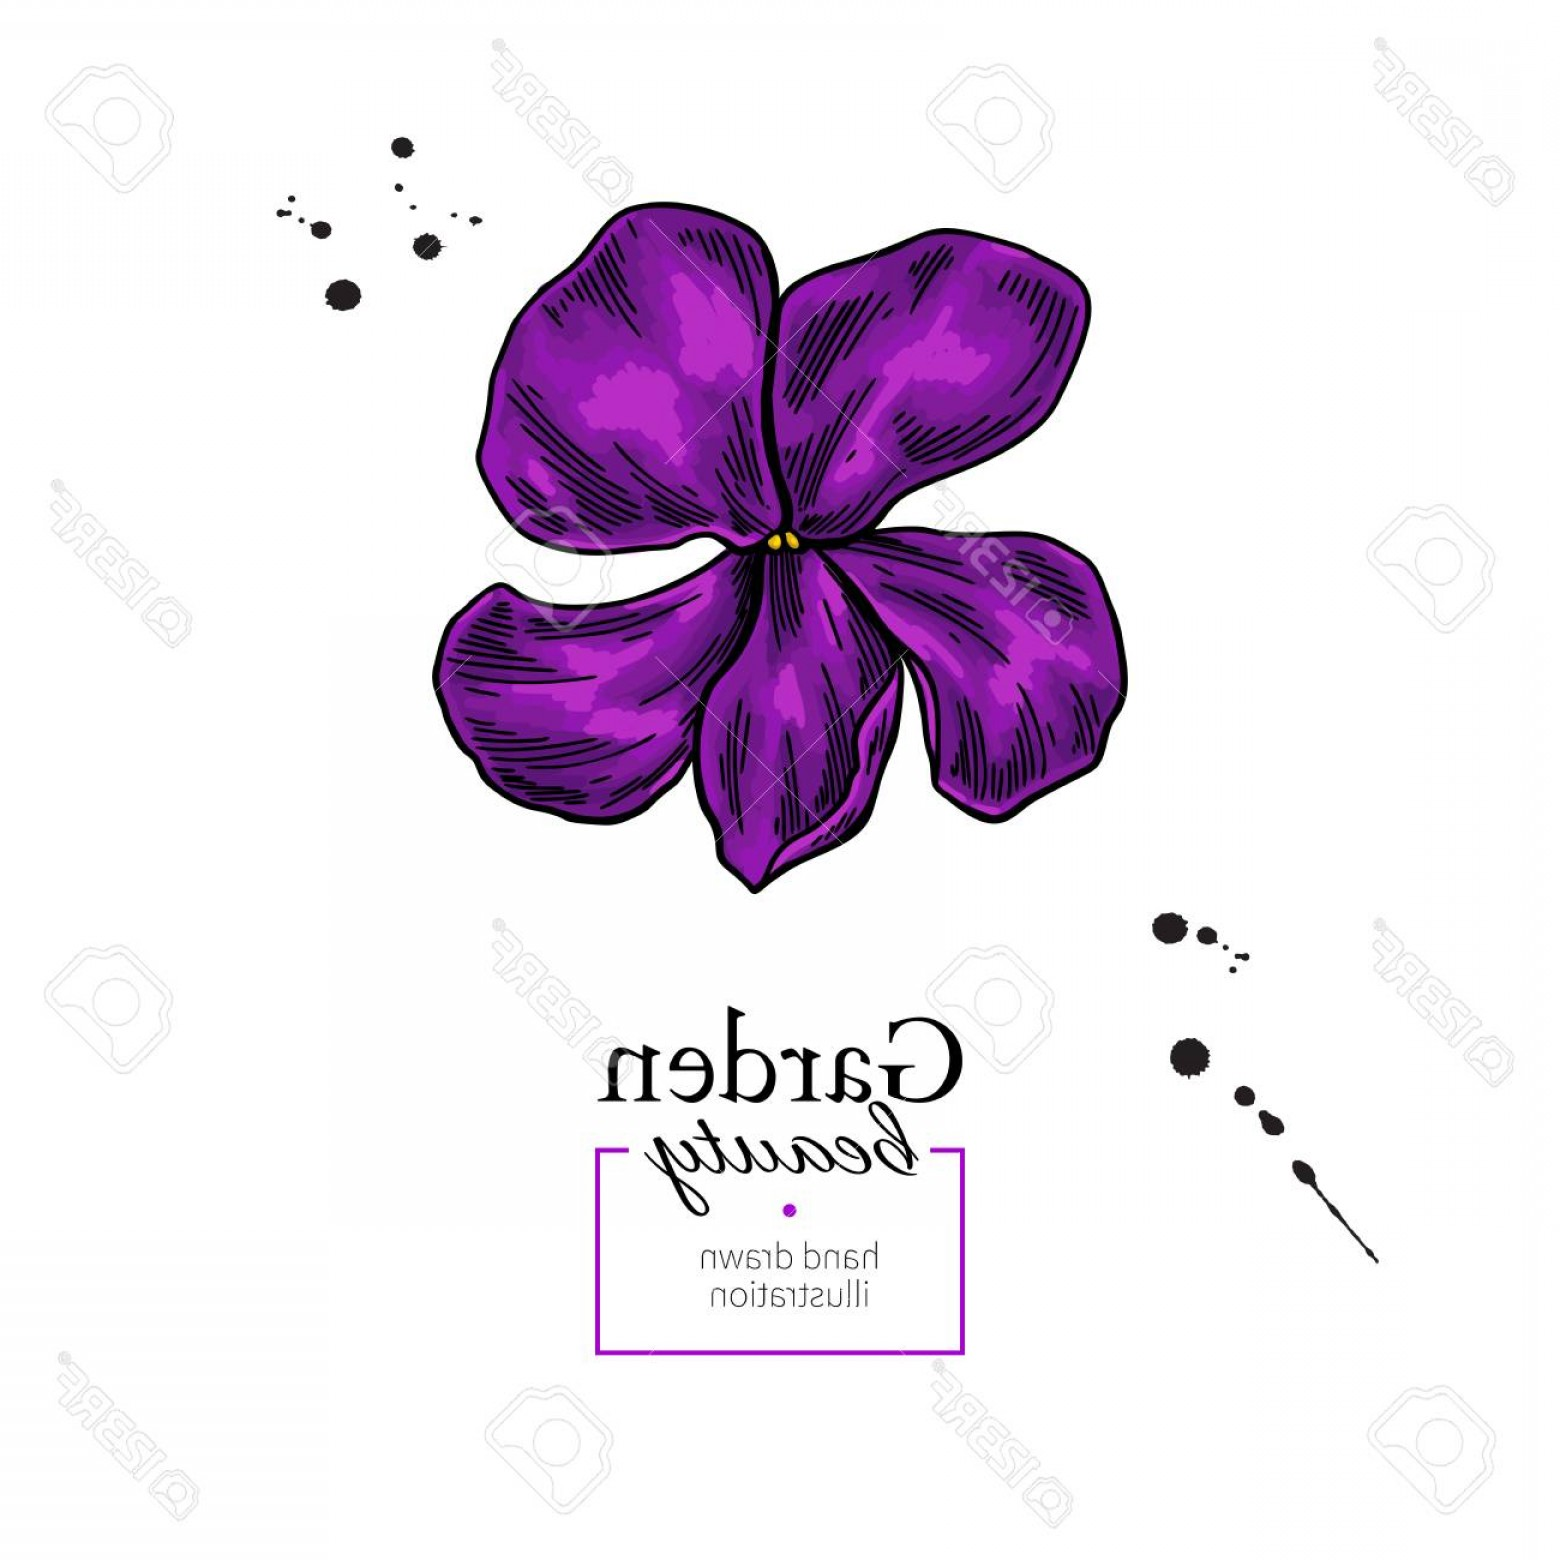violet: (449, 179, 1136, 879)
